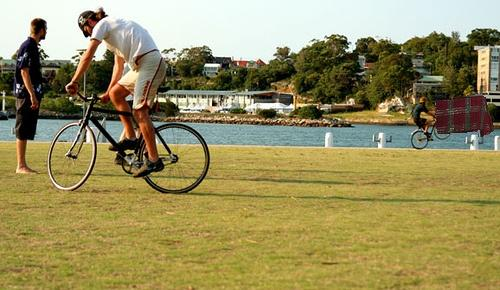tampered: (436, 94, 494, 137)
